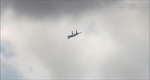maybay_muctieu: (66, 30, 80, 40)
